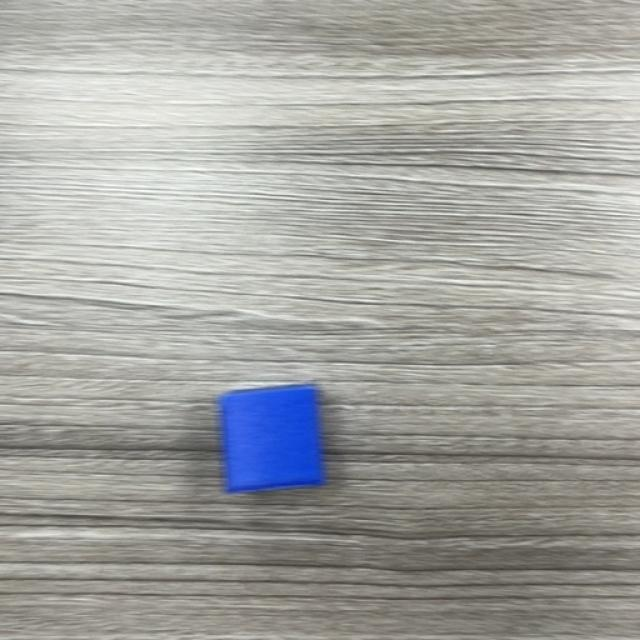Azul: (216, 386, 326, 495)
